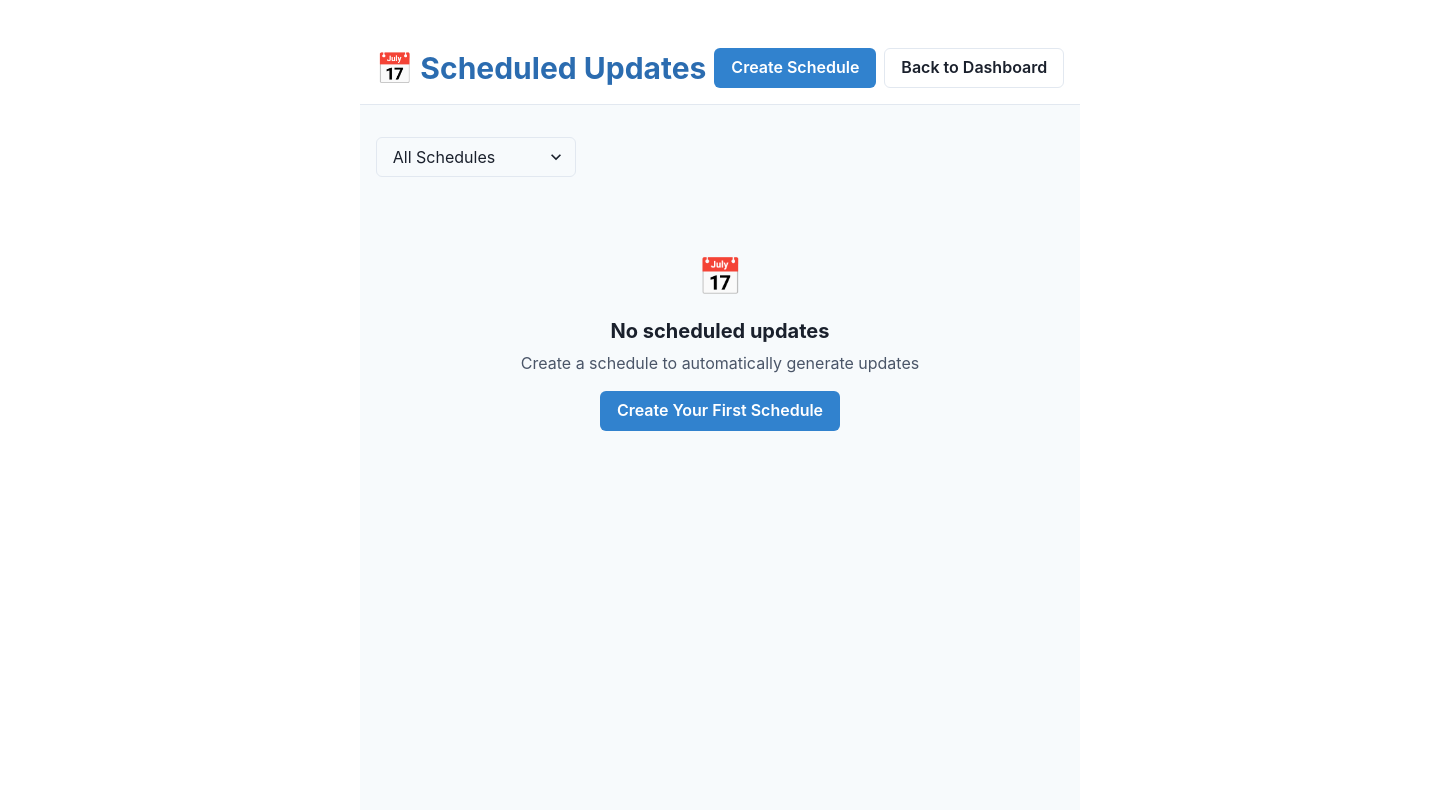
Schedules page › shows an error toast when schedule creation fails
The image size is (1440, 810).
Click the button "Create Schedule".
click(795, 68)  # box [714,48,876,88]
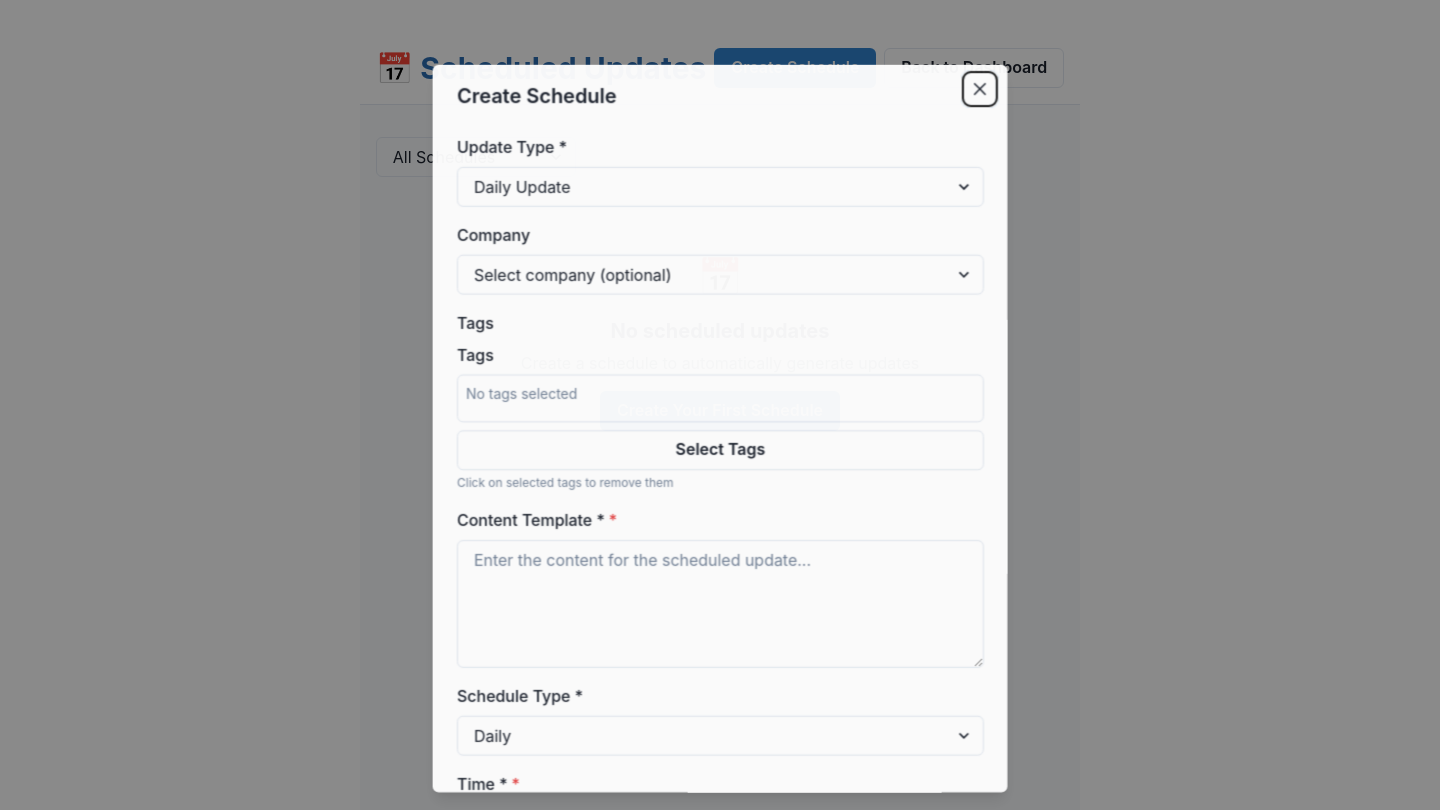
Type "Will fail" into the text box with placeholder "Enter the content for the scheduled update...".
click(720, 604); type("Will fail")  # box [457,540,984,668]
(page scrolled)
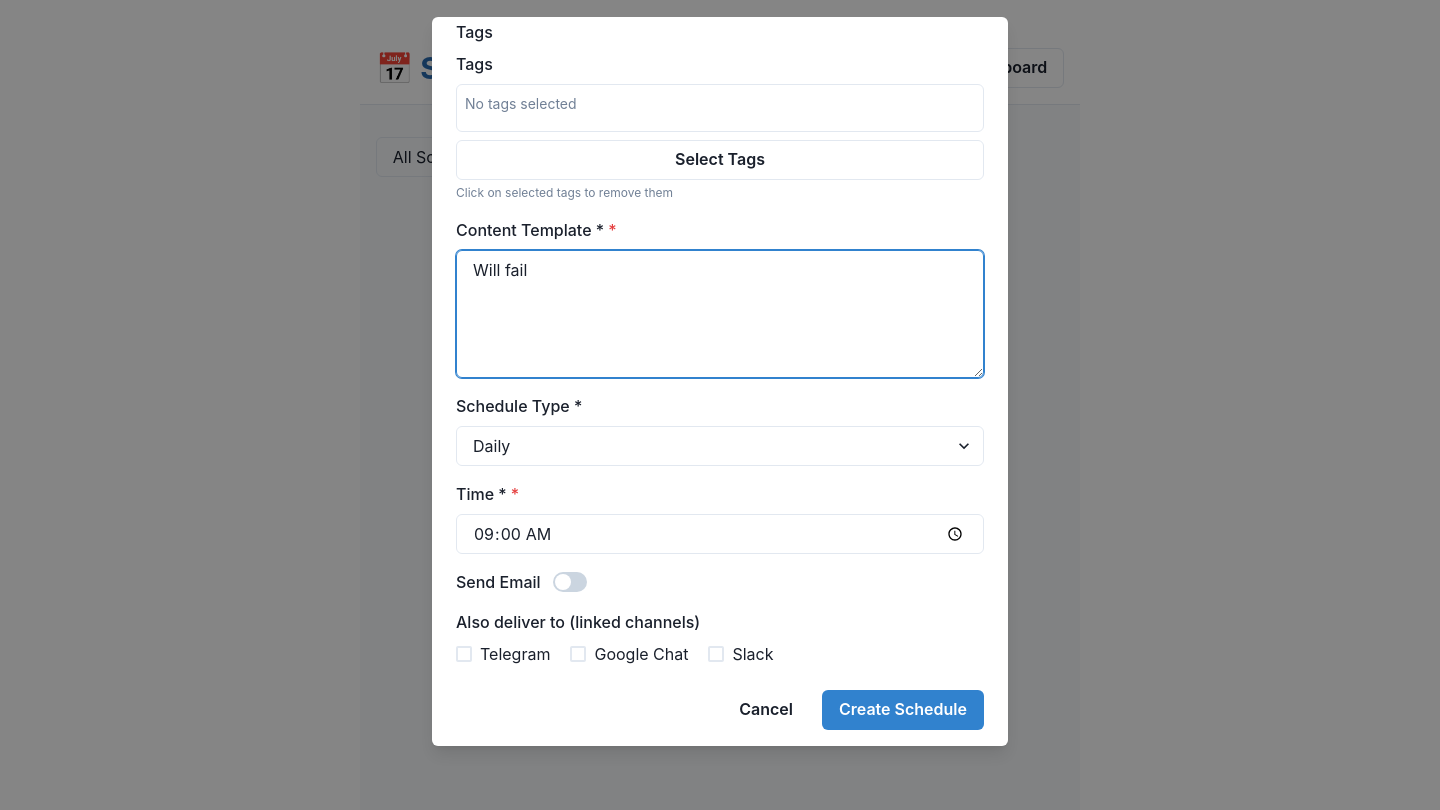
Click the button "Create Schedule".
click(903, 710)  # box [822,690,984,730]
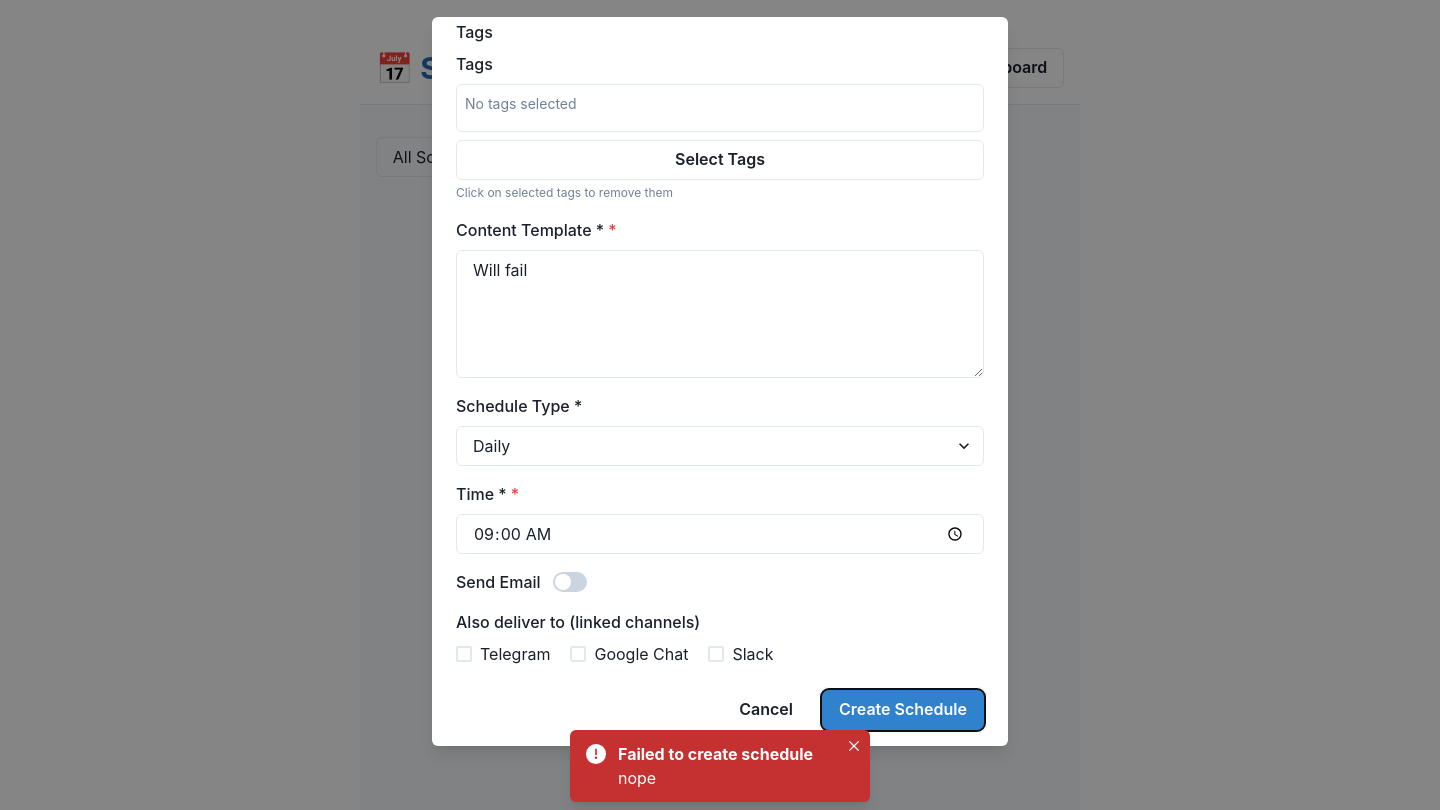
Result: the text "Failed to create schedule" is shown at [618,742,830,766]
